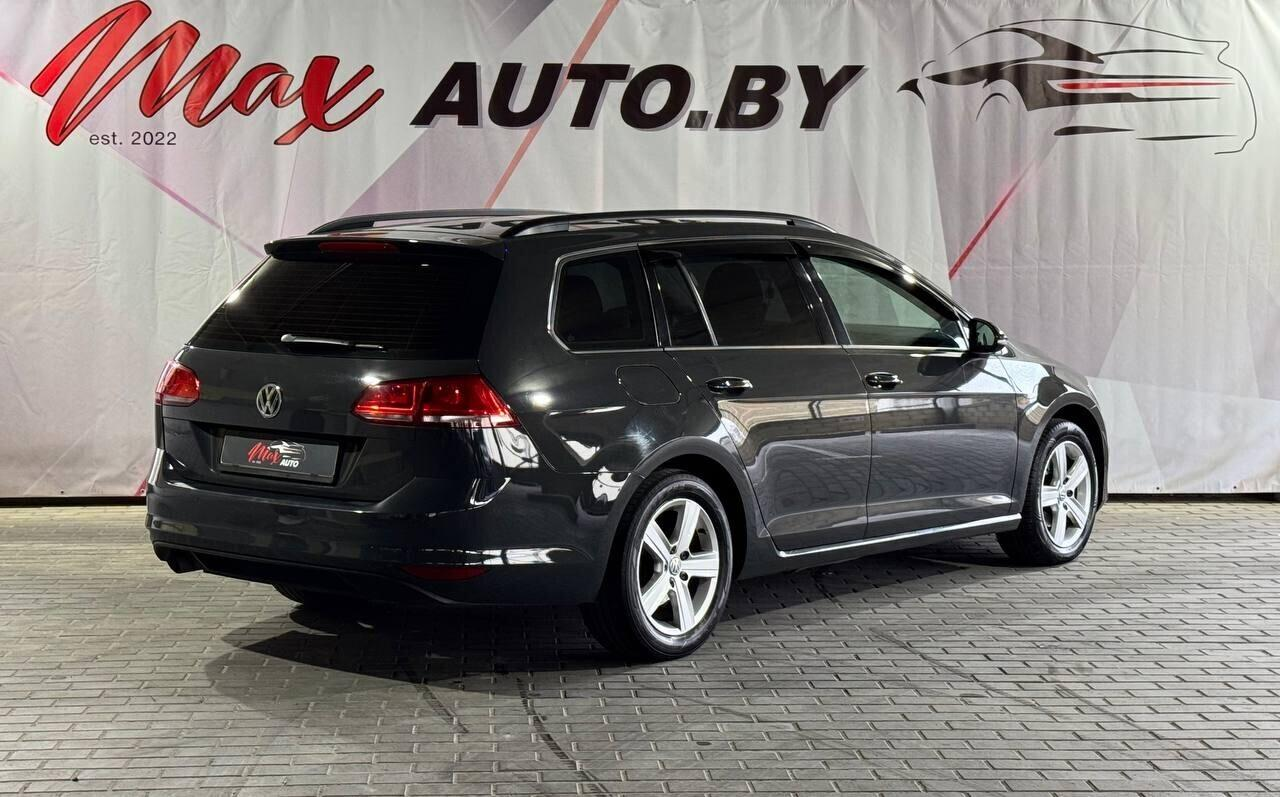Golf_2012-2017: (130, 212, 1118, 651)
